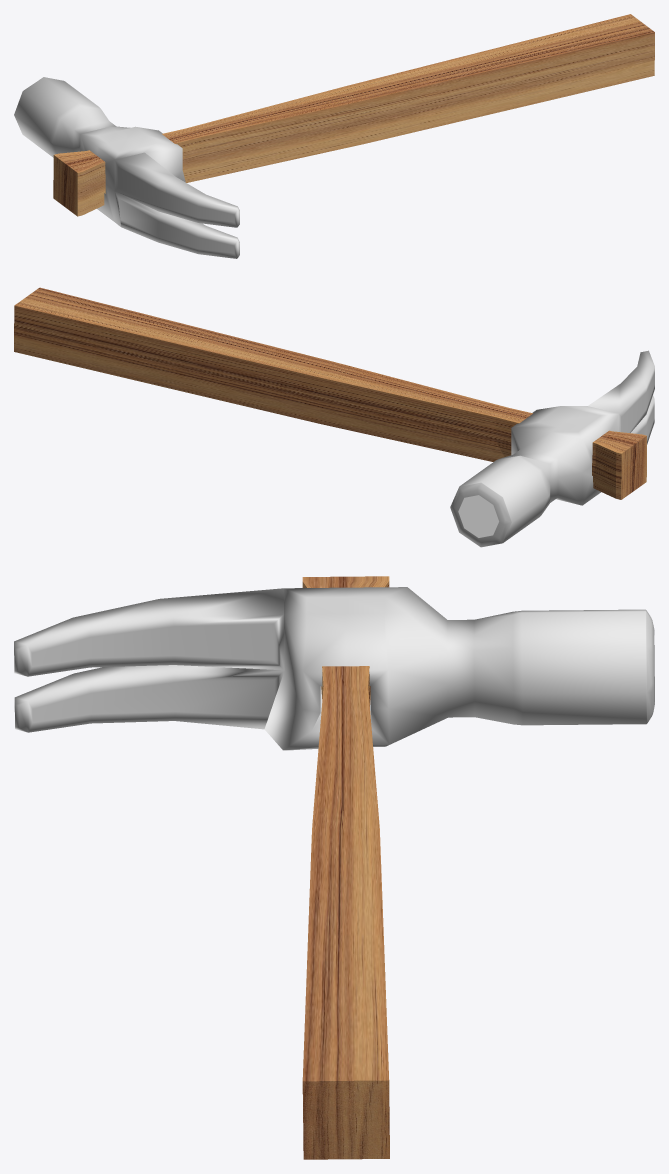
3 renders of one model, top to bottom at view 1: azimuth 30°, elevation 25°; view 2: azimuth 150°, elevation 25°; view 3: azimuth 270°, elevation 25°, orthographic. The views are drawn at different scales.
Parts seen in each view (by area): view 1: 立方体.001, 立方体; view 2: 立方体.001, 立方体; view 3: 立方体, 立方体.001.
Boxes of the visible parts, left/top/right/bottom form: 立方体.001: left=53, top=14, right=654, bottom=216; 立方体: left=14, top=77, right=239, bottom=258; 立方体.001: left=14, top=287, right=646, bottom=499; 立方体: left=450, top=350, right=654, bottom=547; 立方体: left=14, top=587, right=654, bottom=750; 立方体.001: left=302, top=576, right=389, bottom=1159.
Size of the model in its own units: 19.31 by 2.09 by 10.38.
2 materials, 1 textured.
